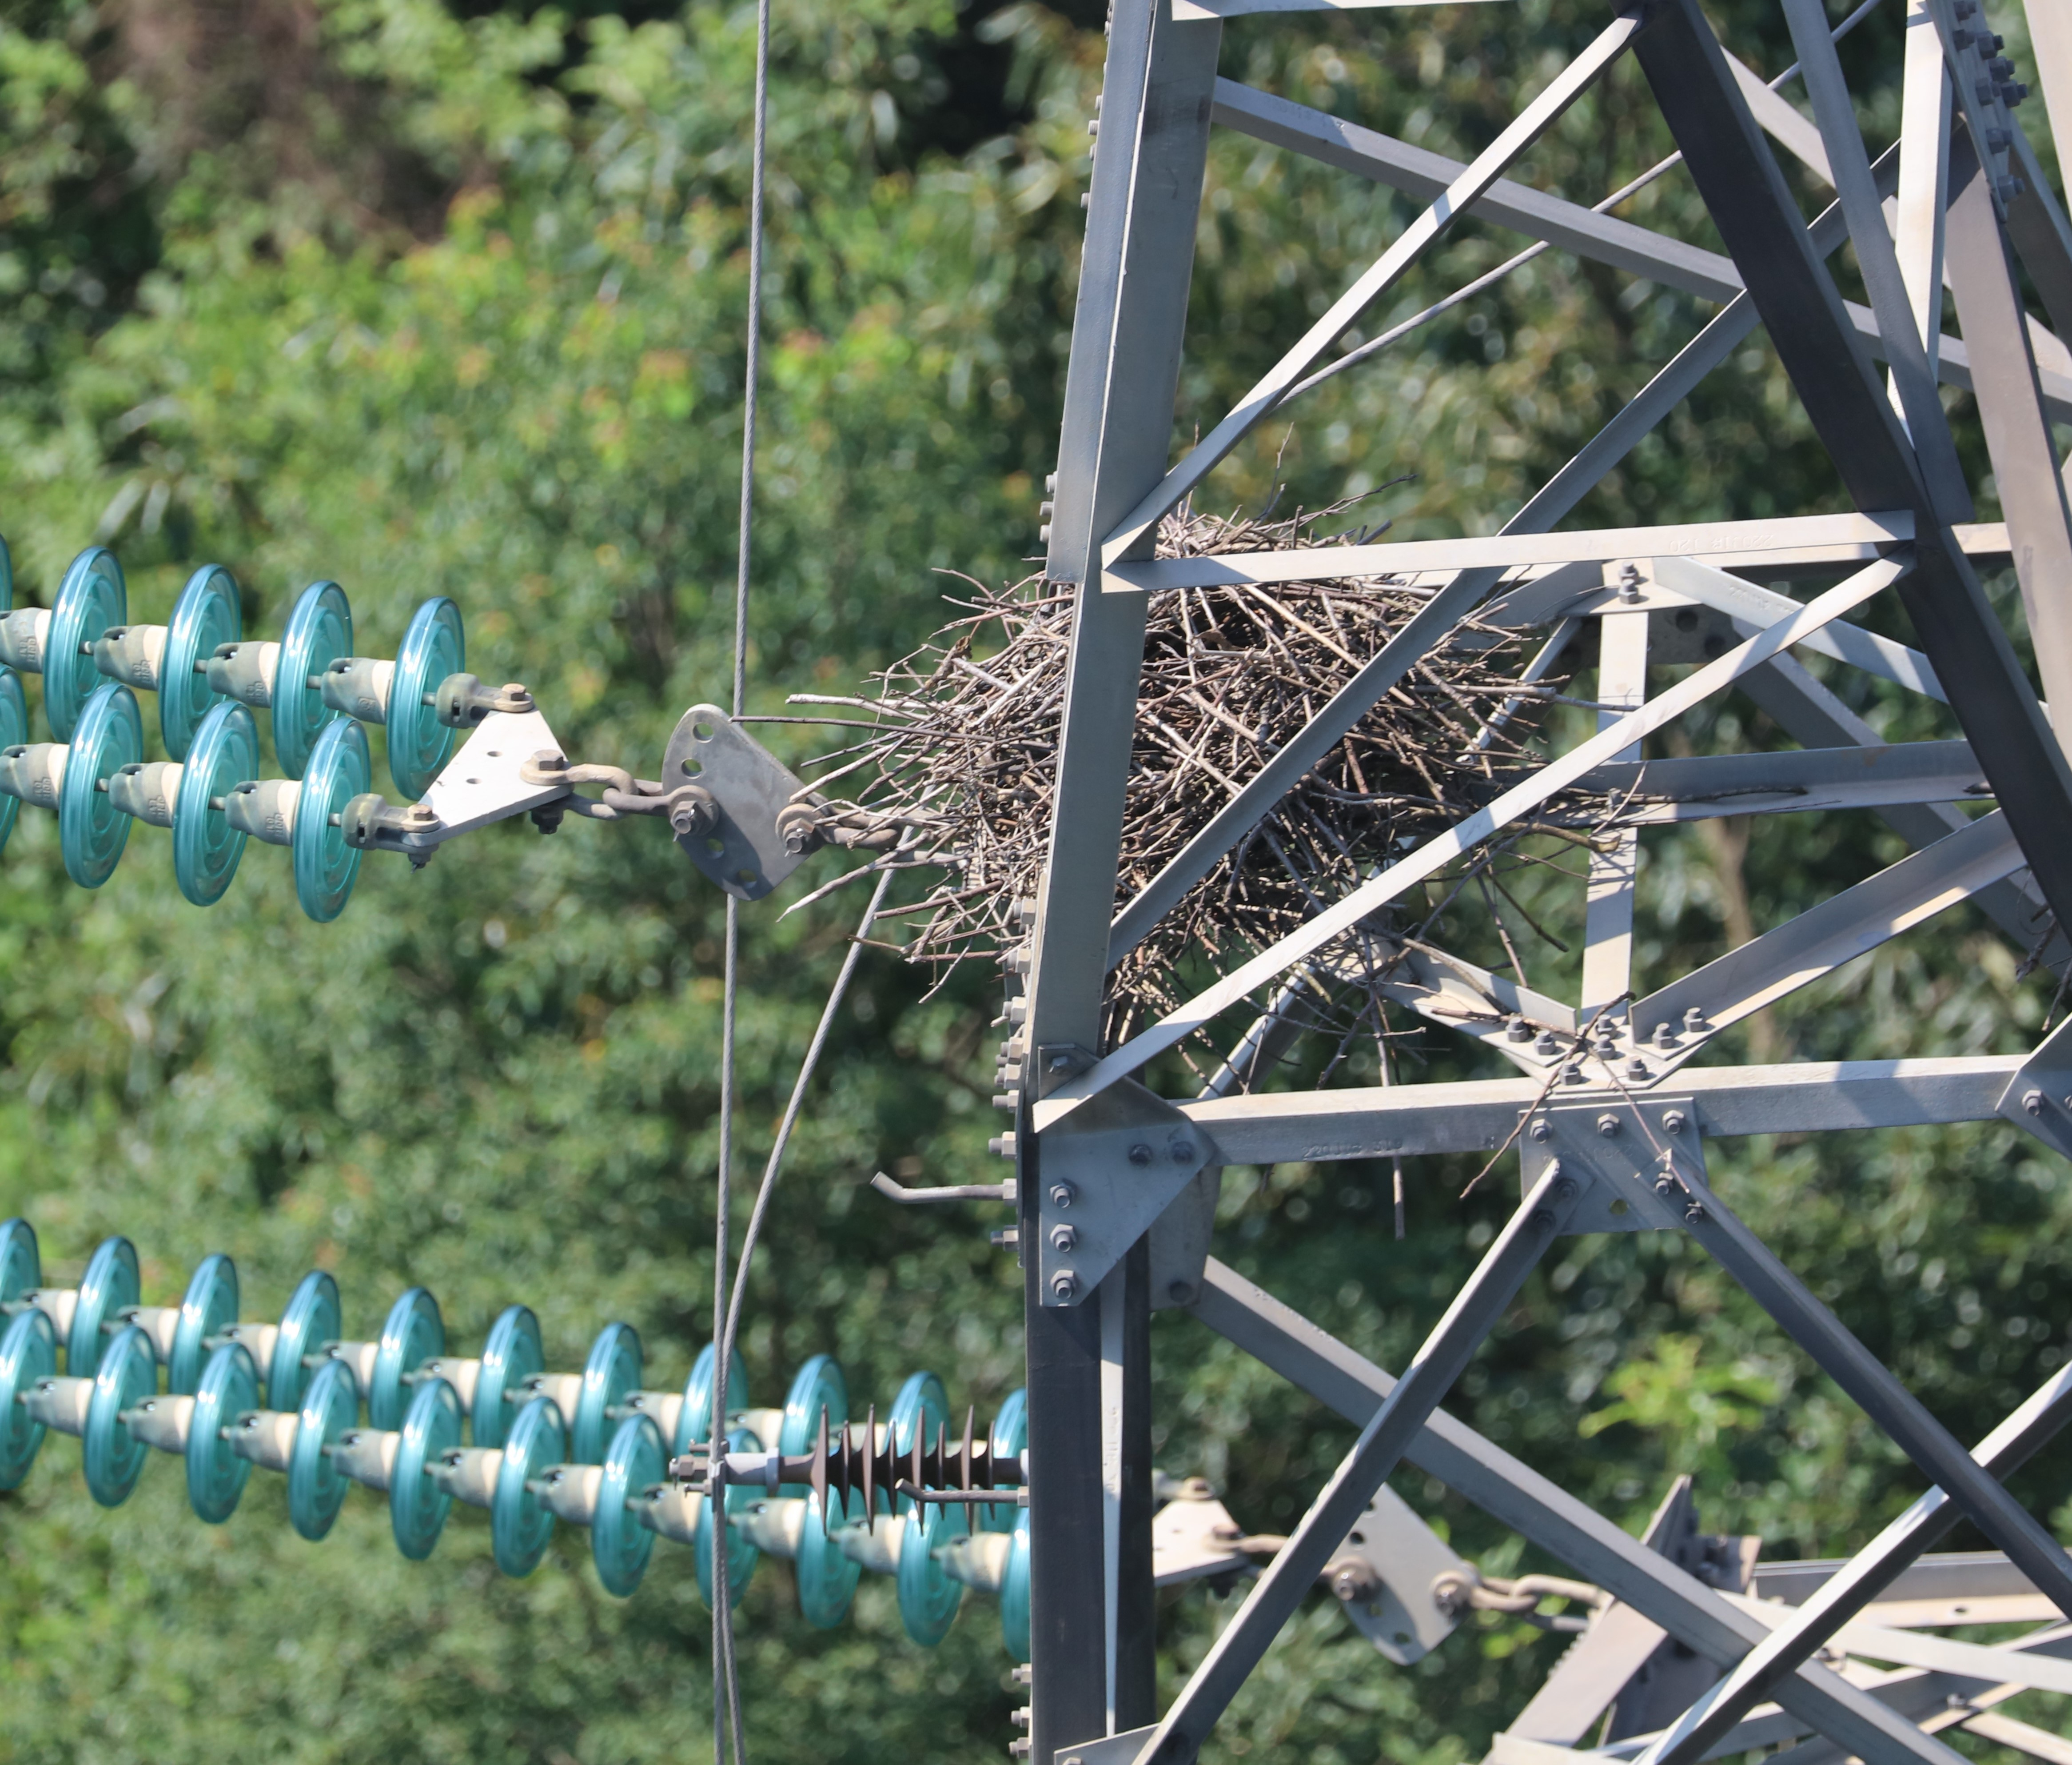niaowo: (852, 475, 1598, 1054)
